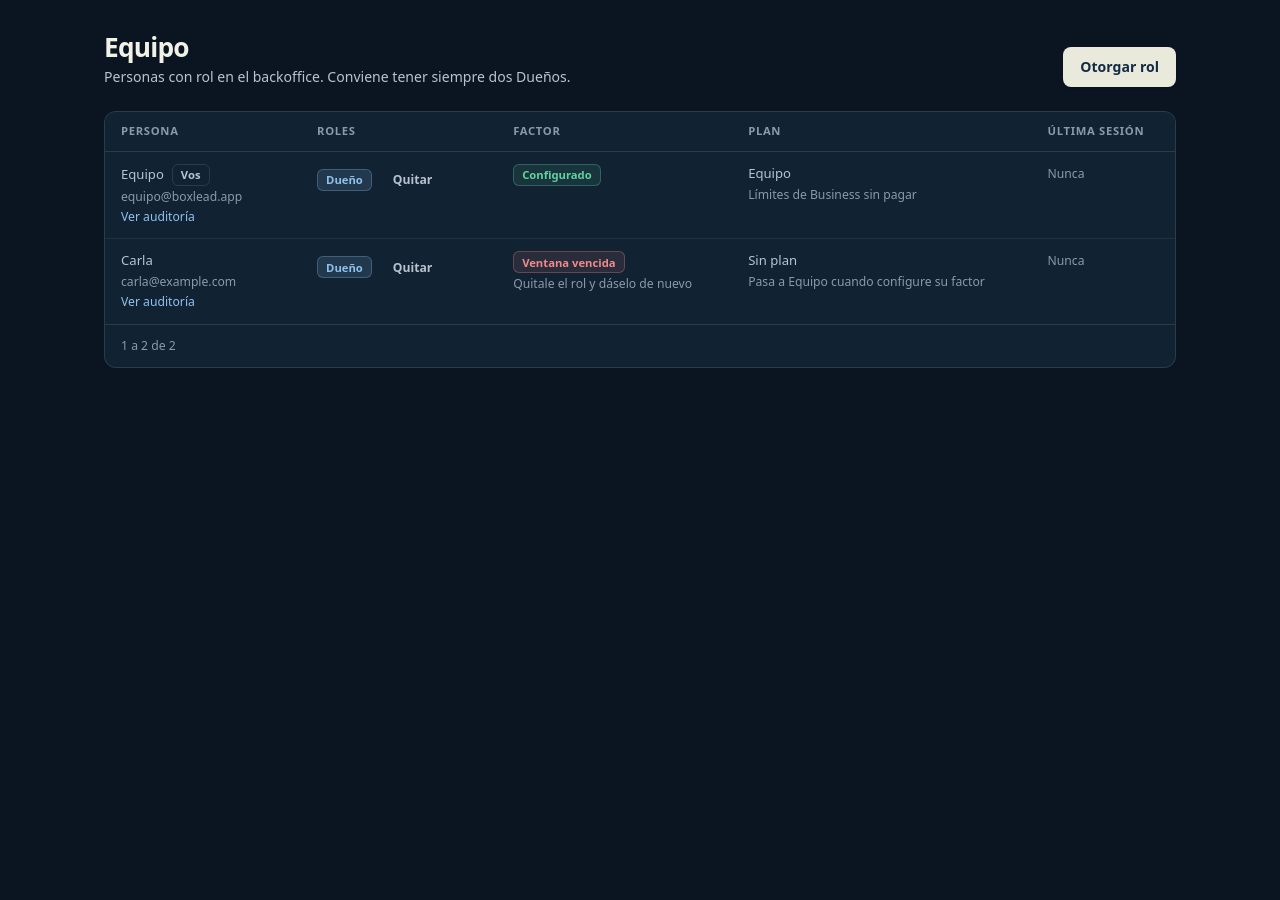
Test case: TeamScreen › warns when no other owner has a confirmed factor
This screenshot has width=1280, height=900.
Click the button with aria-label "Quitar Dueño a equipo@boxlead.app". click: (413, 180)
box: [380,164,445,196]
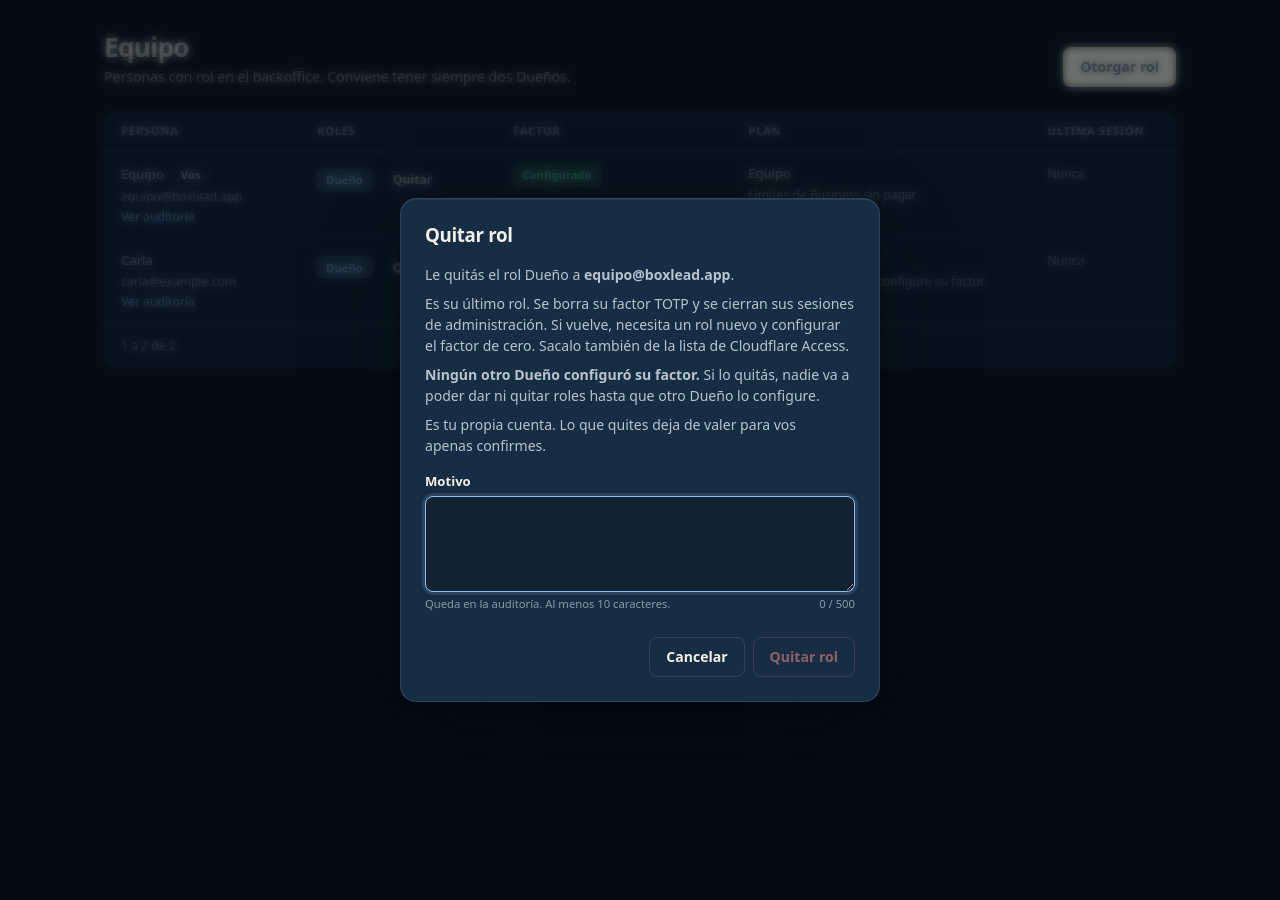
Expected: the text "Ningún otro Dueño configuró su factor." is shown, [425,365,700,384]
